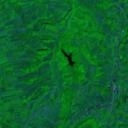alloviz: (60, 48, 76, 67)
